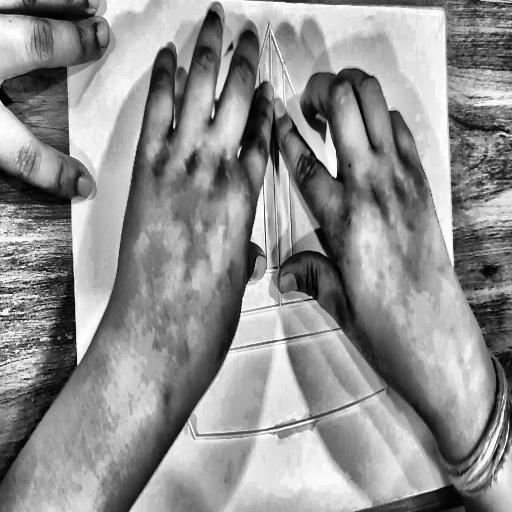boat: (131, 3, 423, 471)
bottom_right: (459, 474, 466, 485)
top_right: (441, 4, 450, 17)
